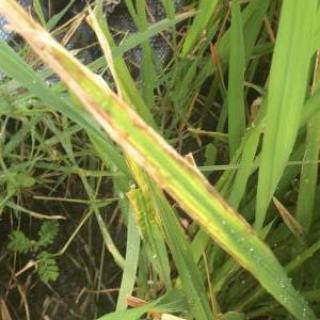Hawar-Daun: (0, 1, 308, 320)
